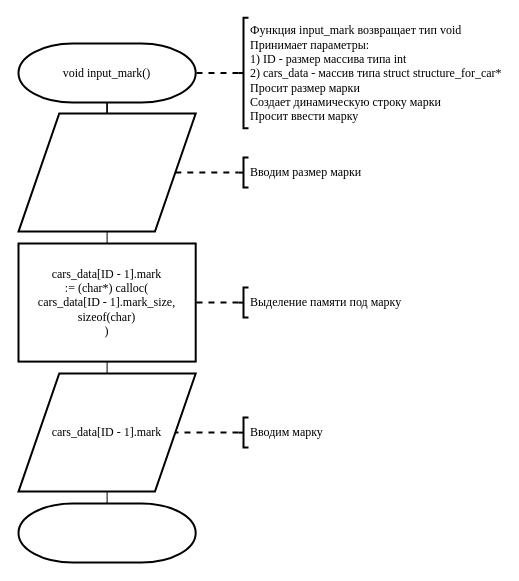
Image size: 519x581. Some labels were removed from this diagram. The box of each missing label's shape, as (x1, y1, x2, y2) in pixels:
cars_data[ID - 1] .mark_size: (17, 112, 196, 232)
Конец: (17, 502, 196, 563)
